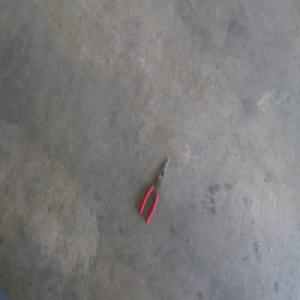Pliers: (139, 157, 169, 223)
